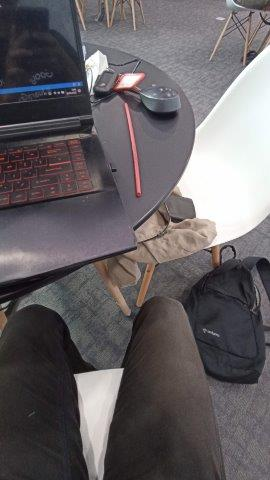sedotan: (125, 104, 141, 196)
